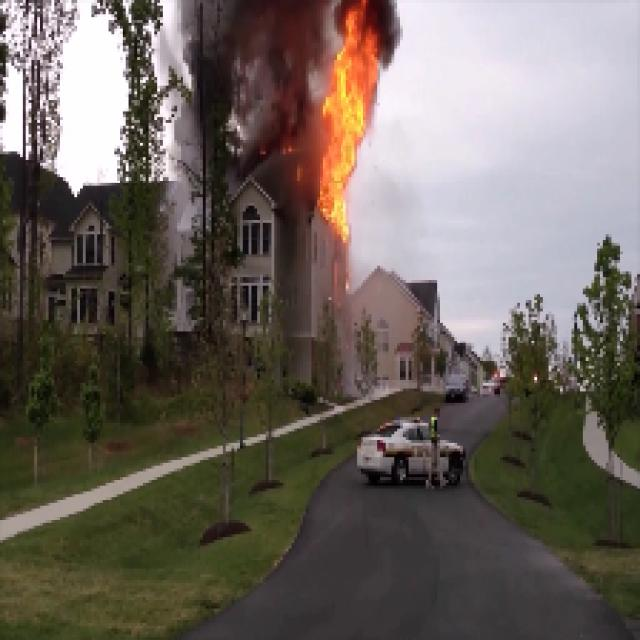fire: (328, 2, 364, 228)
smoke: (188, 3, 304, 144)
